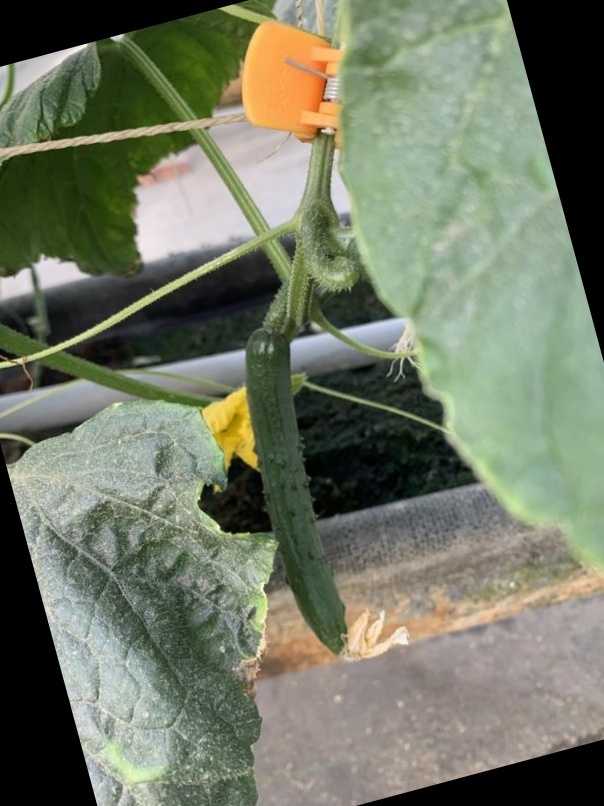mature: (237, 323, 352, 656)
